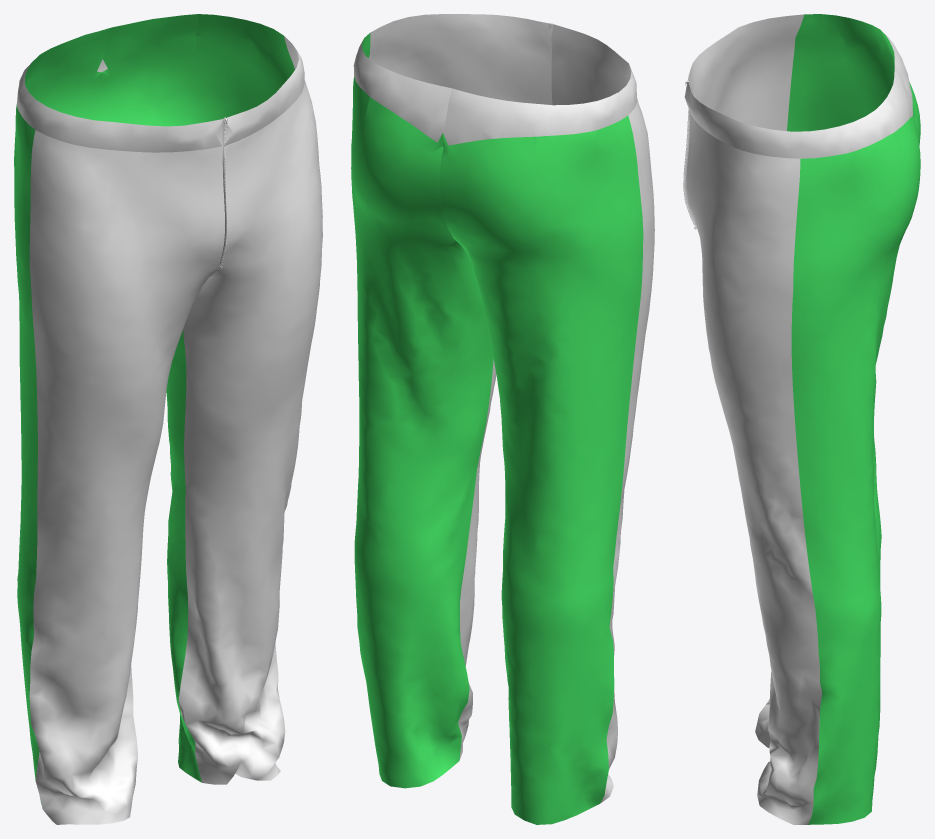
File: MalePant.glb
The picture shows the model from 3 angles, left to right: view 1: azimuth 30°, elevation 25°; view 2: azimuth 150°, elevation 25°; view 3: azimuth 270°, elevation 25°; orthographic projection. The views are drawn at different scales.
Visible parts, largest first — view 1: Cloth; view 2: Cloth; view 3: Cloth.
Boxes of the visible parts, x1,y1,x2,y2 form: Cloth: (14, 14, 322, 824); Cloth: (351, 14, 654, 824); Cloth: (684, 14, 920, 824).
Size of the model in its own units: 0.3921 by 0.9799 by 0.2956.
Materials: 11 (8 with a texture image).
